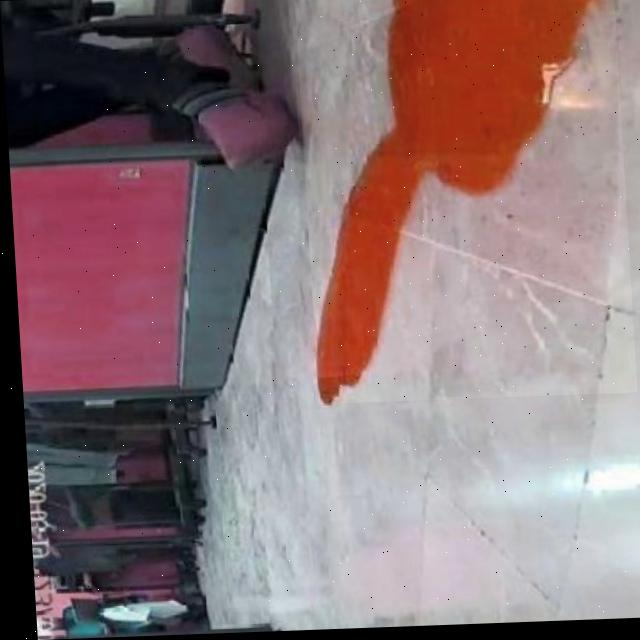spillage: (312, 0, 604, 405)
